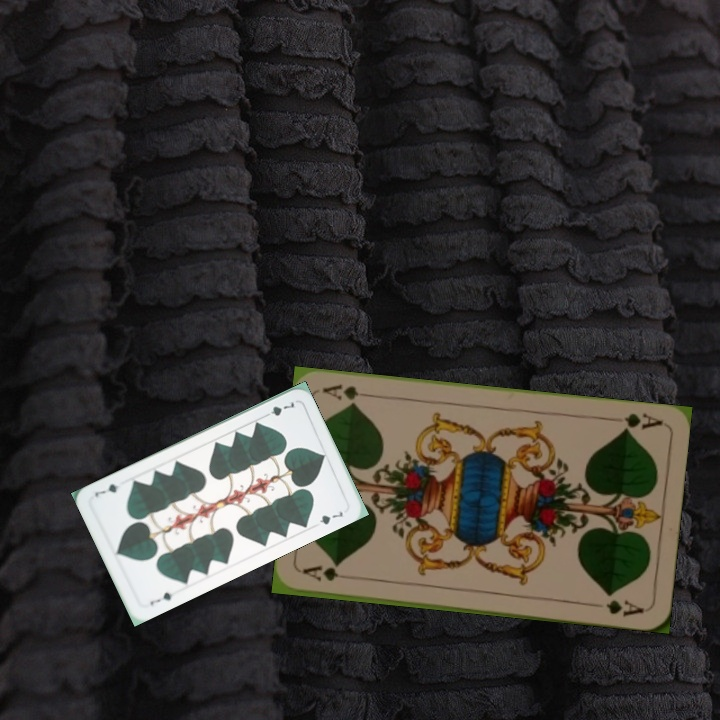G7: (259, 397, 297, 420), (146, 588, 175, 608)
GA: (299, 562, 357, 584), (617, 409, 665, 434)
